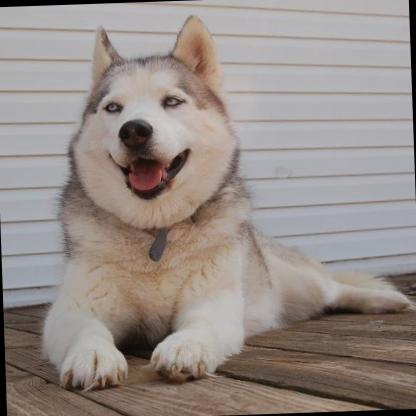Eskimo_dog: (30, 9, 416, 389)
